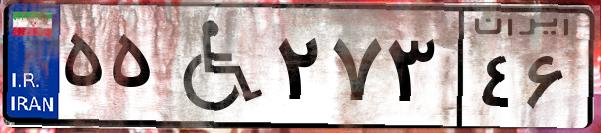2: (270, 28, 330, 110)
3: (385, 28, 445, 110)
4: (475, 38, 525, 113)
5: (57, 26, 110, 100), (110, 28, 158, 98)
6: (525, 38, 570, 115)
7: (330, 28, 385, 110)
ژ (معلولین و جانبازان): (158, 12, 270, 120)
